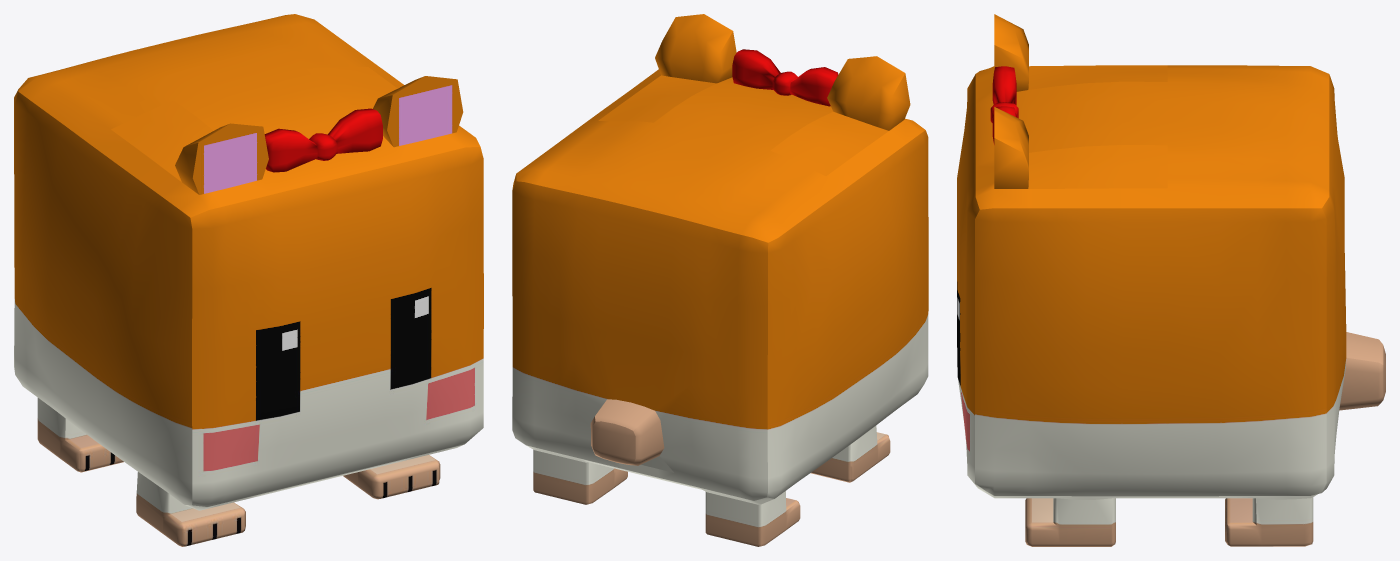
The model's file is RibbonEat.fbx.
3 views of the same model, side by side, from view 1: azimuth 30°, elevation 25°; view 2: azimuth 150°, elevation 25°; view 3: azimuth 270°, elevation 25° (orthographic). The views are drawn at different scales.
Visible parts, largest first — view 1: pCube11; view 2: pCube11; view 3: pCube11.
Boxes of the visible parts, x1=… form: pCube11: x1=14, y1=14, x2=483, y2=546; pCube11: x1=512, y1=14, x2=928, y2=546; pCube11: x1=957, y1=14, x2=1385, y2=546.
Bounding box in the file's own units: 4.23 × 5.21 × 4.81.
